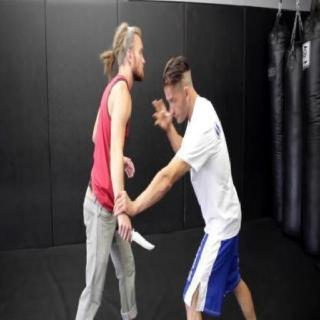knife: (112, 216, 158, 257)
